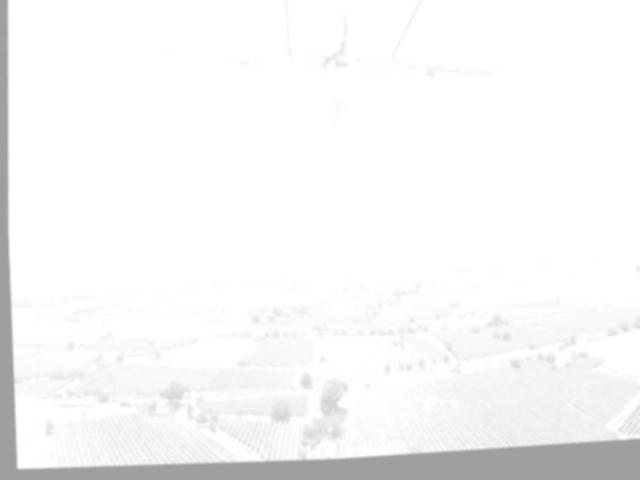hedef: (149, 0, 529, 175)
